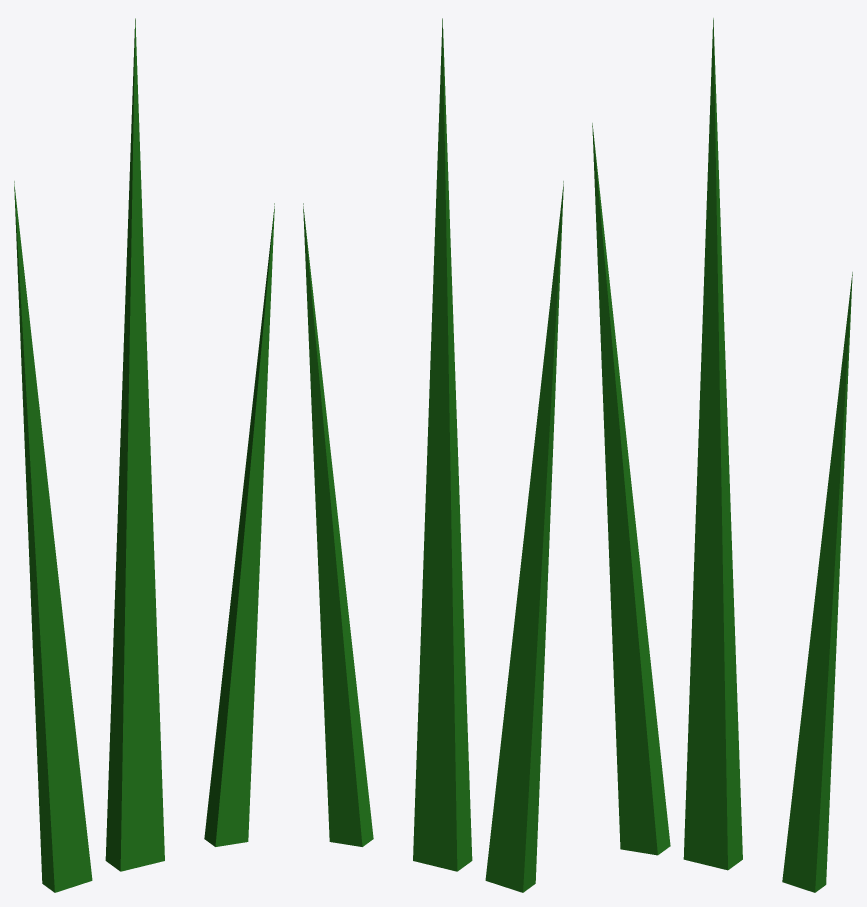
The model's file is Grass_2_mat.fbx.
The picture shows the model from 3 angles, left to right: view 1: azimuth 30°, elevation 25°; view 2: azimuth 150°, elevation 25°; view 3: azimuth 330°, elevation 25°; orthographic projection.
Parts seen in each view (by area): view 1: Grass_2_mat; view 2: Grass_2_mat; view 3: Grass_2_mat.
Part boxes in pixels (bbox=[...]): Grass_2_mat: bbox=[14, 18, 274, 892]; Grass_2_mat: bbox=[303, 18, 563, 892]; Grass_2_mat: bbox=[592, 18, 852, 892].
Size of the model in its own units: 14.67 by 45.83 by 1.45.
